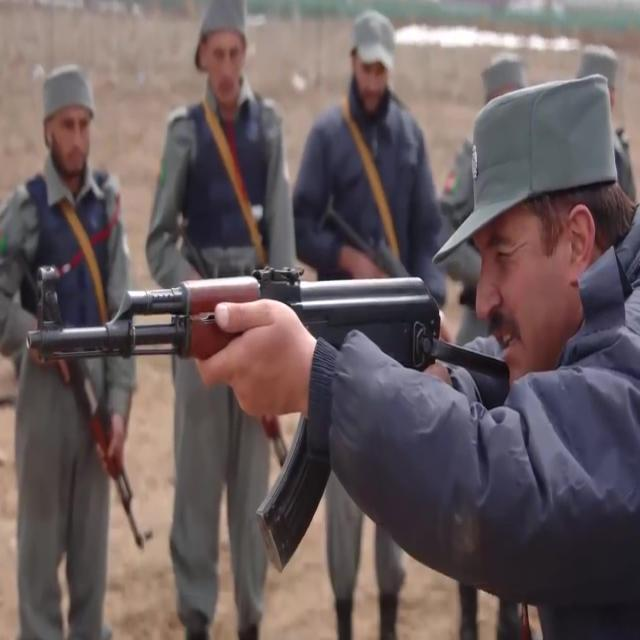Weapon: (19, 255, 534, 559), (21, 223, 160, 596), (166, 183, 304, 487), (313, 152, 474, 408)
